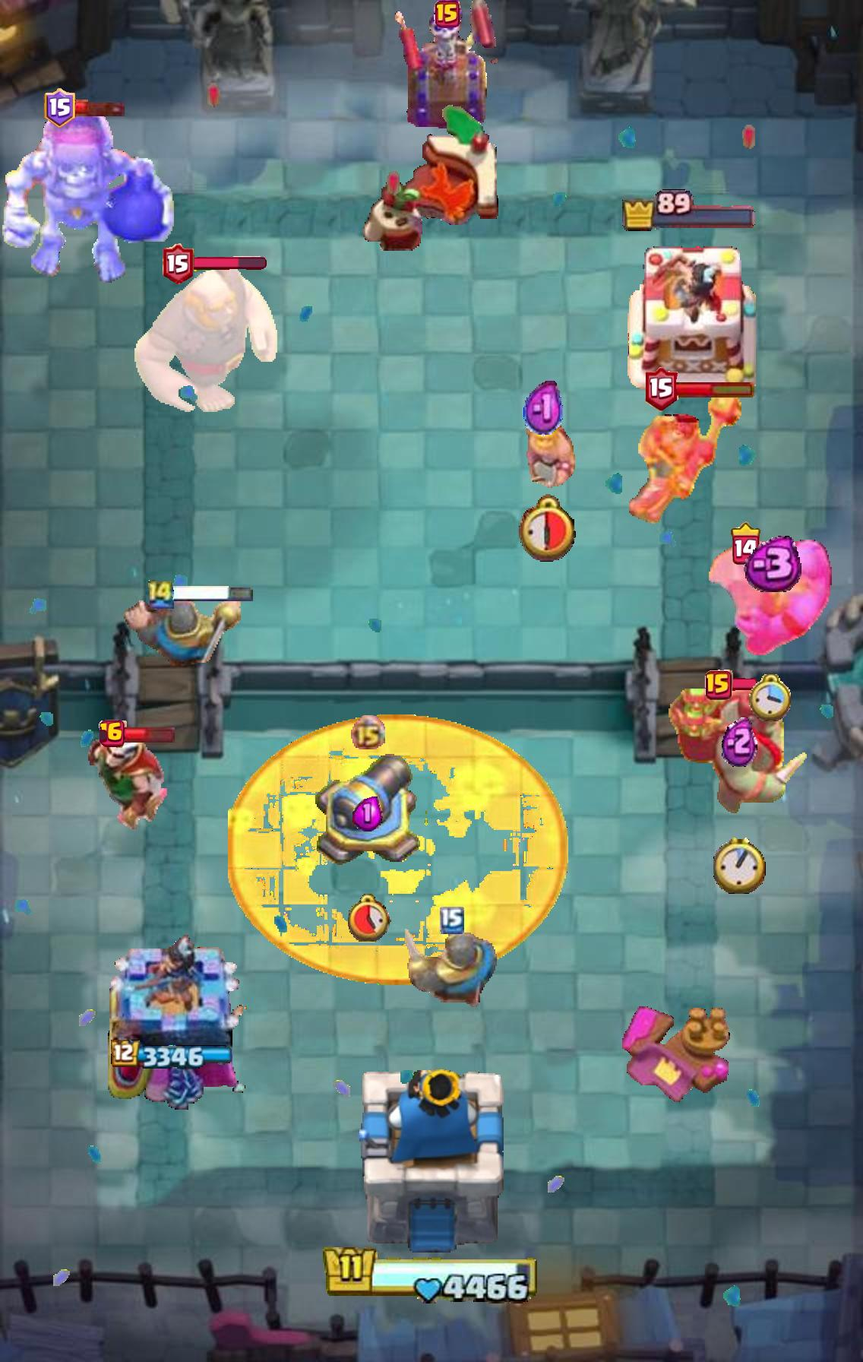bar: (675, 380, 755, 398), (192, 256, 267, 271), (72, 99, 127, 117), (122, 725, 175, 743), (729, 678, 757, 691)
bar-level: (645, 366, 678, 412), (43, 88, 76, 128), (731, 521, 761, 564), (163, 243, 194, 284), (705, 670, 733, 700), (98, 720, 126, 748), (433, 0, 460, 27)
